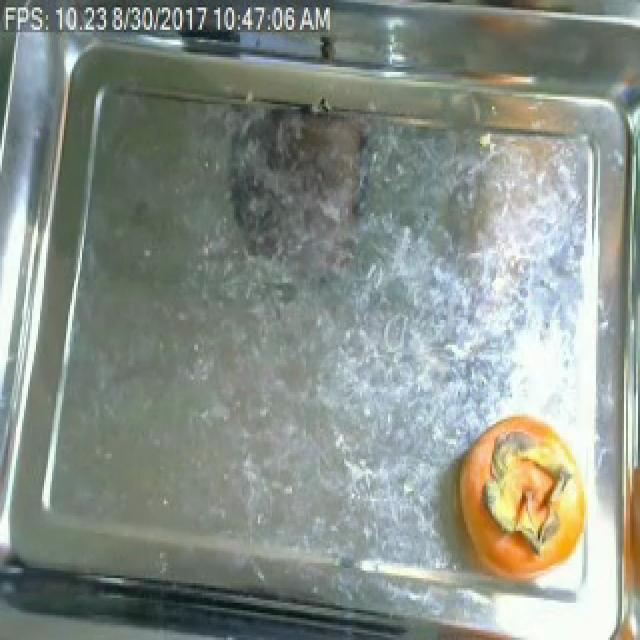Fruit: (482, 409, 588, 568), (416, 620, 554, 640)
